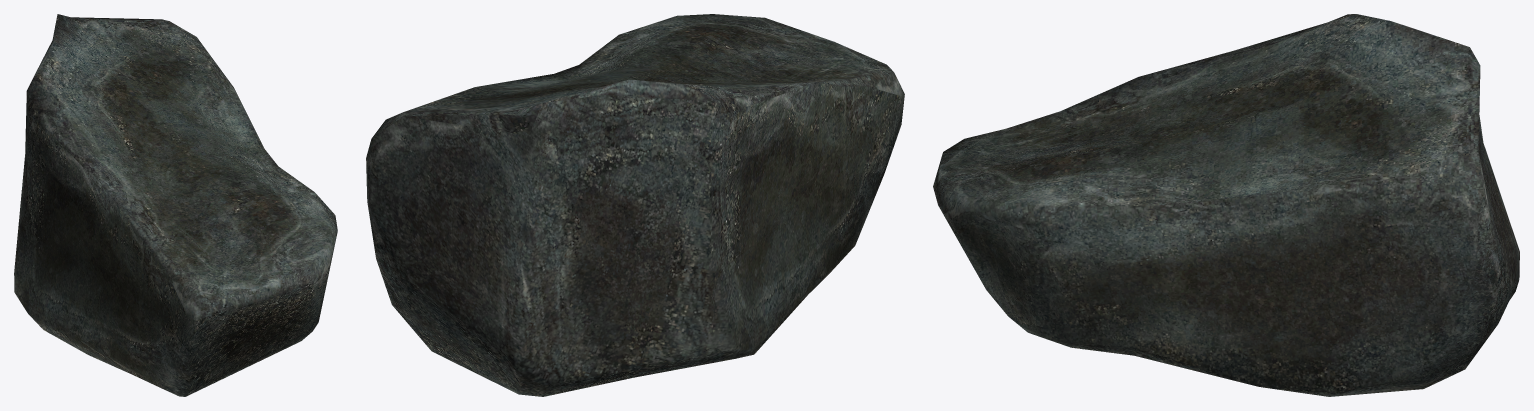
The model's file is ruins_blackstone_debris_tiny04.dae.
3 views of the same model, side by side, from view 1: azimuth 30°, elevation 25°; view 2: azimuth 150°, elevation 25°; view 3: azimuth 270°, elevation 25° (orthographic). The views are drawn at different scales.
Visible parts, largest first — view 1: 04; view 2: 04; view 3: 04.
Part boxes in pixels (<box>): 04: <box>14,14,337,396</box>; 04: <box>366,14,904,396</box>; 04: <box>933,14,1519,396</box>.
Bounding box in the file's own units: 0.2361 × 0.2519 × 0.4201.
